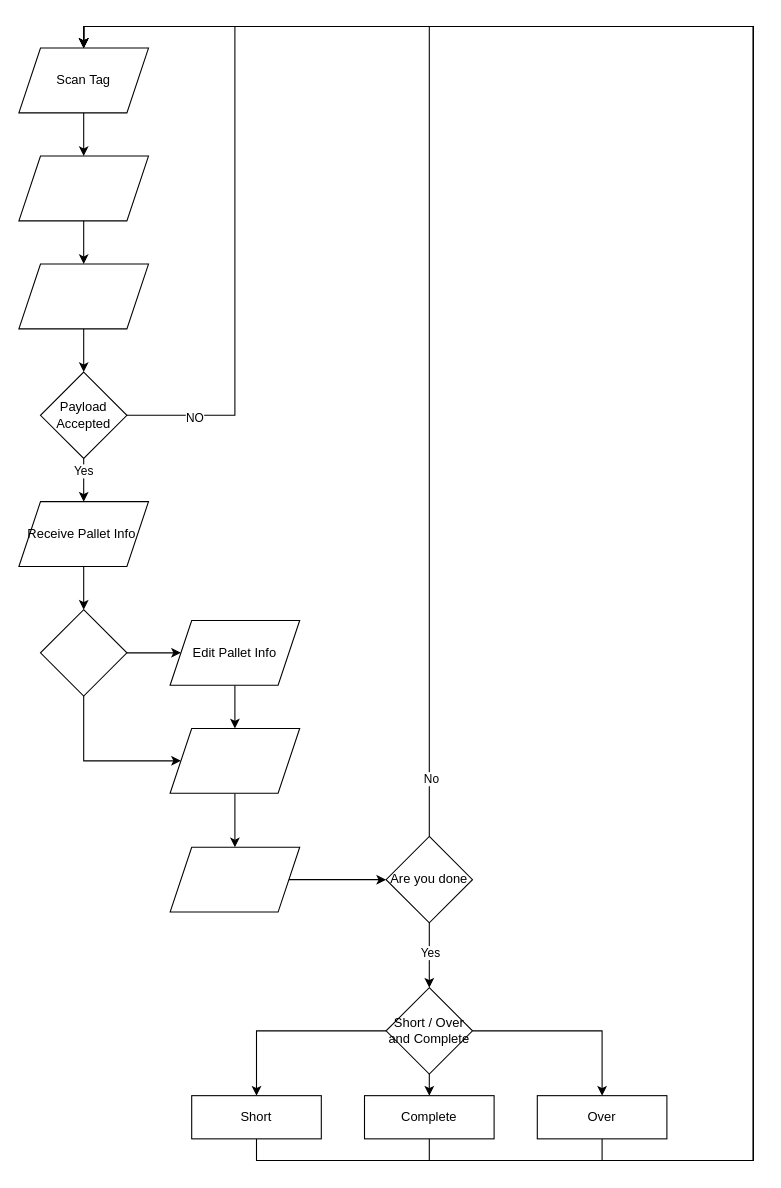
This 781x1188 diagram has some shape labels left out. Here are the shapes that lost their labels. From the top down, the box of each, then its label:
(18, 155, 148, 221): Scan Barcode
(18, 263, 148, 329): Send MQTT Payload
(39, 609, 127, 696): Pallet Info Correct
(169, 727, 300, 793): Confirm
(169, 846, 300, 912): Accept
